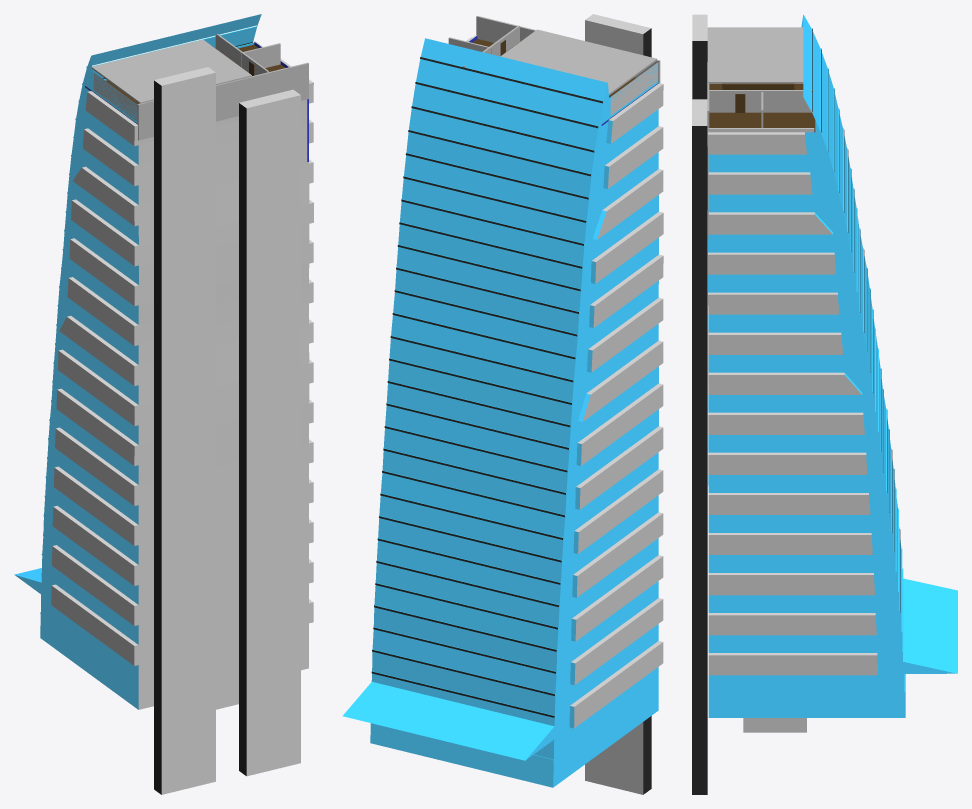
File: buil.glb
3 views of the same model, side by side, from view 1: azimuth 30°, elevation 25°; view 2: azimuth 150°, elevation 25°; view 3: azimuth 270°, elevation 25° (orthographic). The views are drawn at different scales.
Visible parts, largest first — view 1: Cube.001; view 2: Cube.001; view 3: Cube.001, Cube.
Boxes of the visible parts, x1,y1,x2,y2 form: Cube.001: (14, 14, 313, 794); Cube.001: (342, 14, 663, 794); Cube.001: (692, 14, 957, 794); Cube: (743, 718, 806, 732).
Size of the model in its own units: 6.5 by 24.65 by 8.34.
